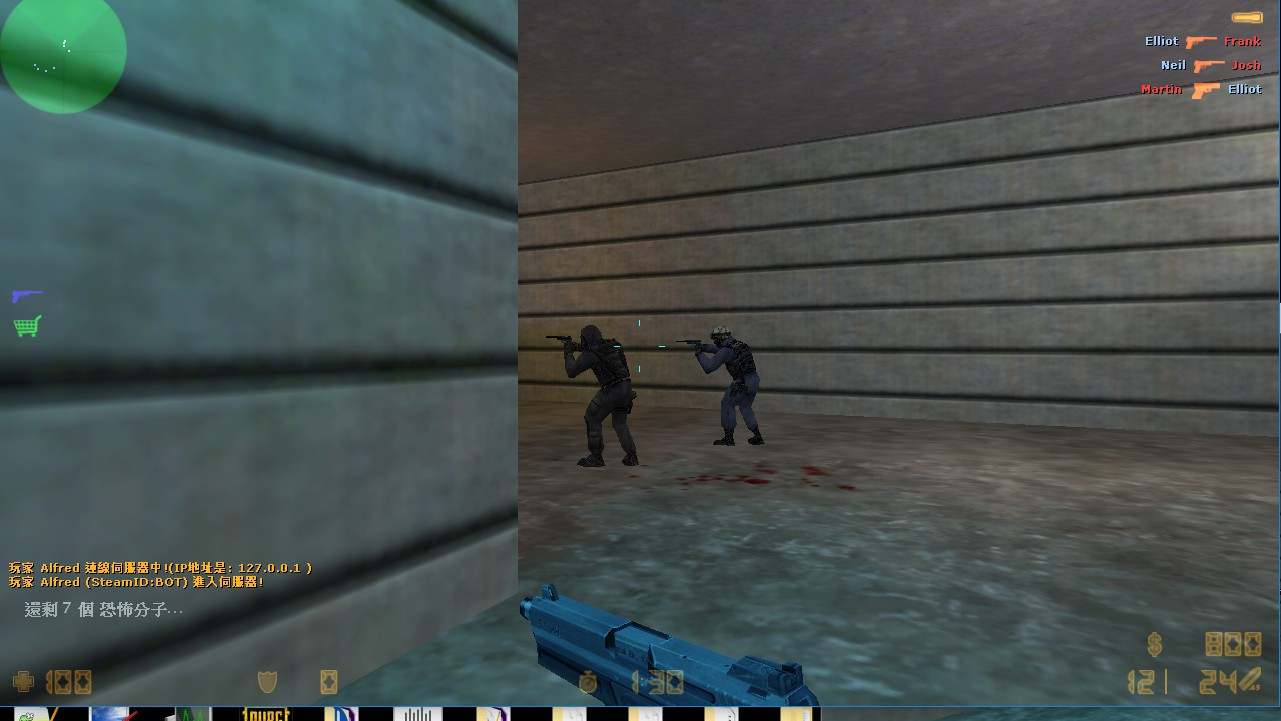person: (565, 320, 640, 473), (695, 324, 770, 442)
